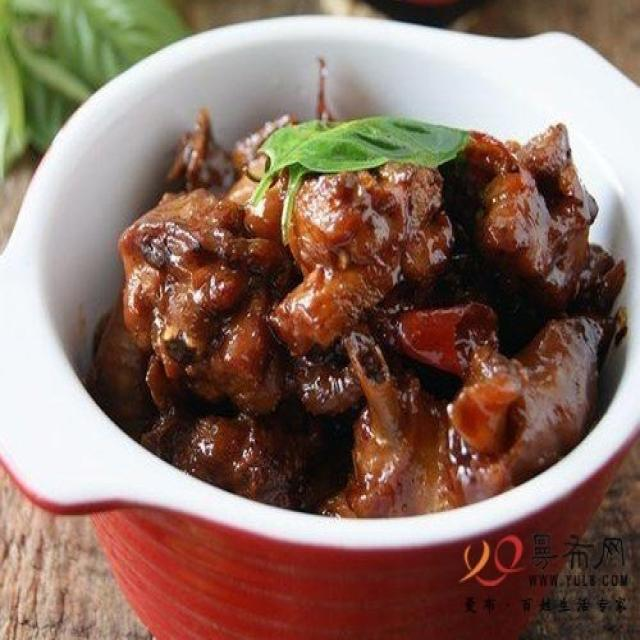鸡肉料理 含炸鸡: (45, 23, 623, 591)
